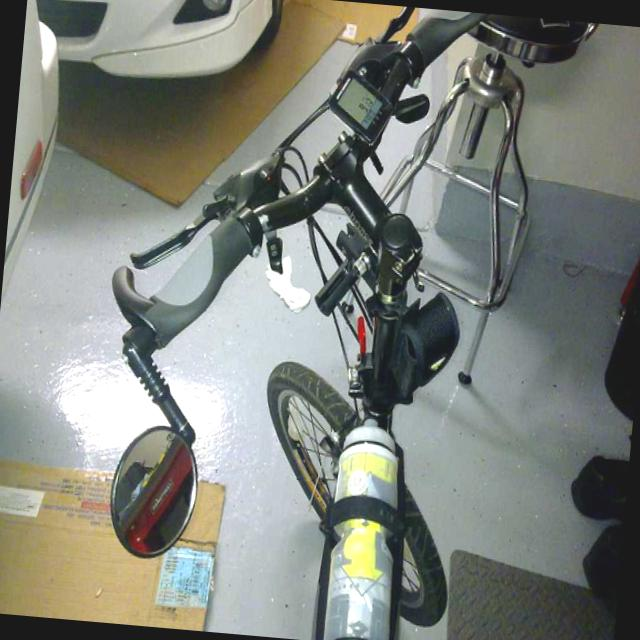Vehicle: (0, 0, 73, 380), (21, 0, 277, 84)
